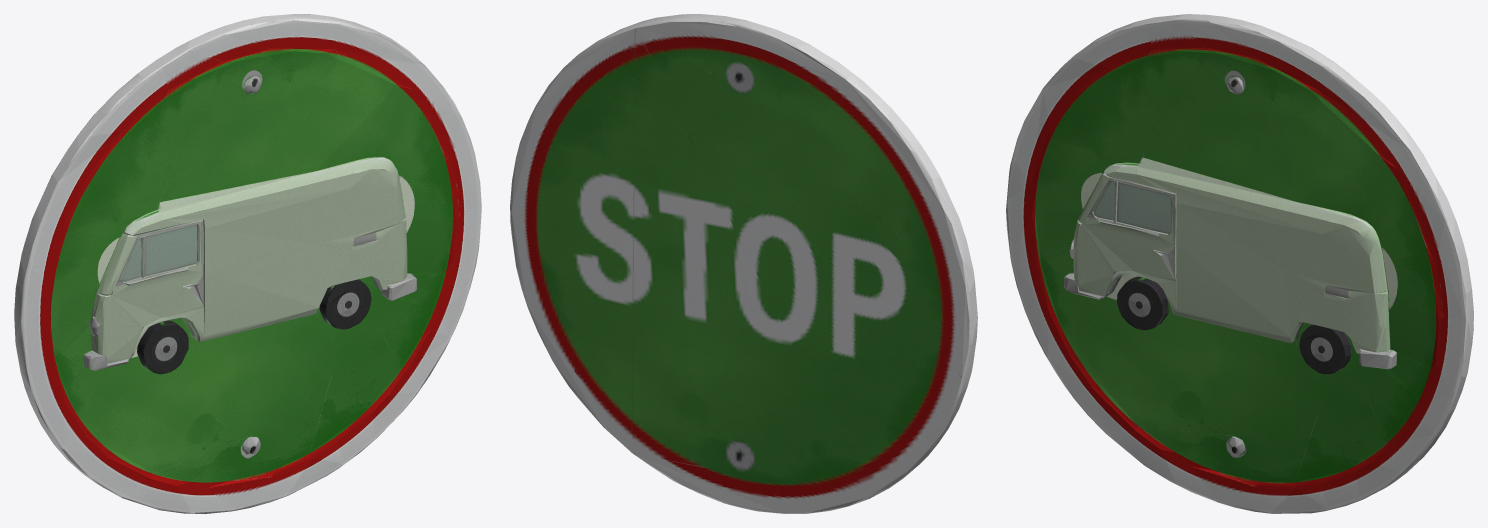
Rendered from van_stop_sign.glb.
3 views of the same model, side by side, from view 1: azimuth 30°, elevation 25°; view 2: azimuth 150°, elevation 25°; view 3: azimuth 330°, elevation 25° (orthographic).
Size of the model in its own units: 1.9 by 1.9 by 0.1157.
Materials: 1 (1 with a texture image).
